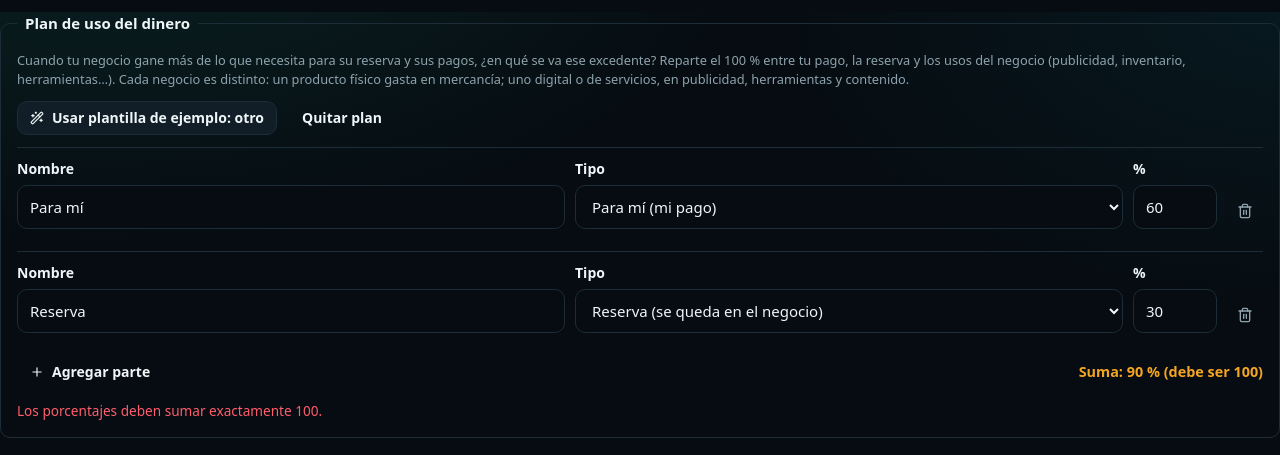
it: PlanEditor › avisa cuando no suma 100 y se corrige al ajustar
Check: the message "Suma: 90 % (debe ser 100)" is shown, box [1079,361,1263,383]
Check: the text "Los porcentajes deben sumar exactamente 100." is shown, box [17,401,322,420]
Replace the text in the 2nd field labelled "%" with "40" at x=1175, y=311, box [1133,289,1217,333]
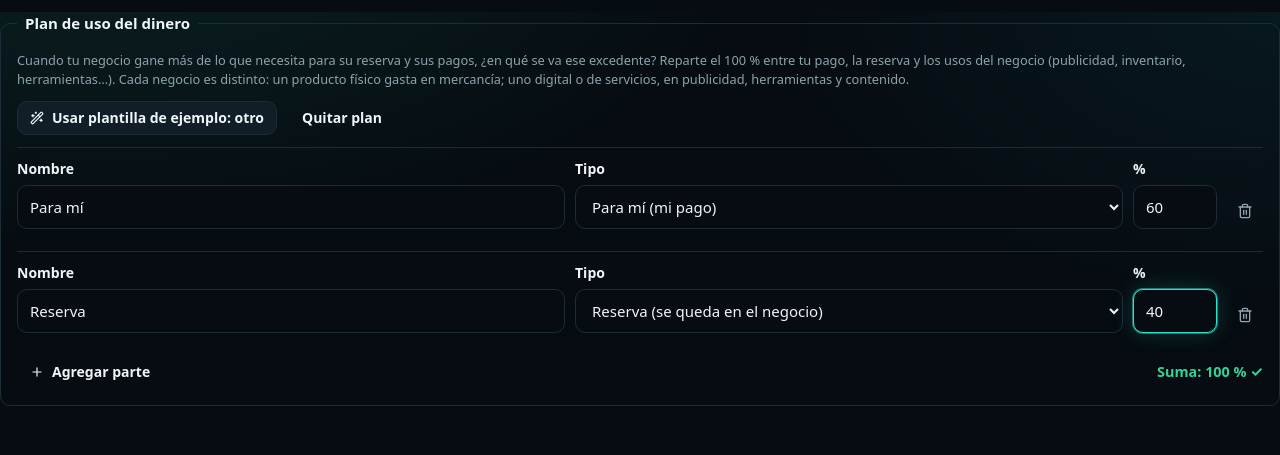
Check: the message reads "Suma: 100 % ✓", box [1157,361,1263,383]
